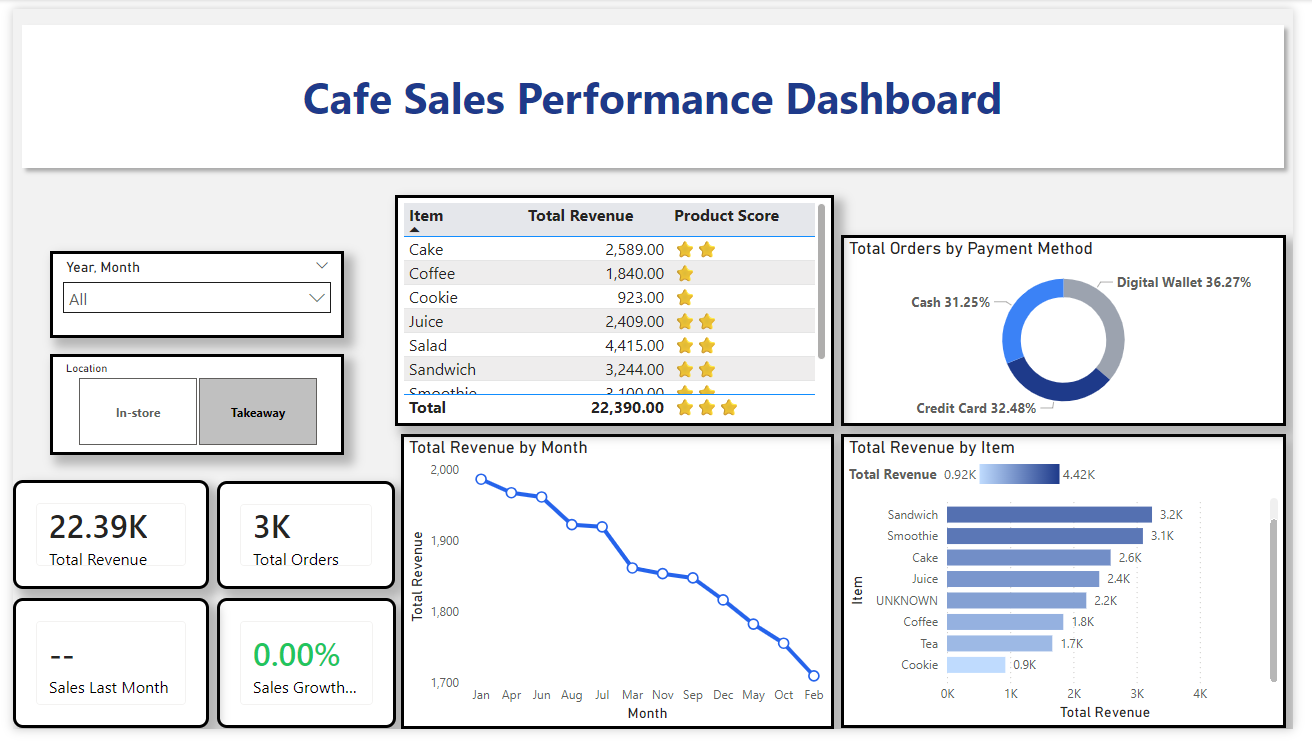

The page's visual inventory and layout, read from the dashboard file:
{"tool":"powerbi","page":{"name":"Page 1","canvas":[1280,720],"ordinal":0},"visuals":[{"type":"slicer","fields":{"Values":["DateTable.Year","DateTable.Month"]},"box":[37.3,241.7,293.9,87.3],"z":0},{"type":"slicer","fields":{"Values":["dirty_cafe_sales.Location"]},"box":[37.3,345,293.9,101.2],"z":1000},{"type":"cardVisual","fields":{"Data":["_Measures.Total Revenue"]},"box":[0,470.7,195.9,109.7],"z":3000},{"type":"cardVisual","fields":{"Data":["_Measures.Total Orders"]},"box":[204.5,471.7,177.8,108.6],"z":4000},{"type":"cardVisual","fields":{"Data":["_Measures.Sales Growth %"]},"box":[204.5,588.9,178.9,129.9],"z":5000},{"type":"cardVisual","fields":{"Data":["_Measures.Sales Last Month"]},"box":[0,588.9,195.9,129.9],"z":6000},{"type":"lineChart","fields":{"Category":["DateTable.Month"],"Y":["_Measures.Total Revenue"]},"box":[387.6,424.9,433.4,295],"z":7000},{"type":"clusteredBarChart","fields":{"Y":["_Measures.Total Revenue"],"Category":["Dim_Product.Item"]},"box":[828.5,424.9,444.1,293.9],"z":8000},{"type":"donutChart","fields":{"Category":["dirty_cafe_sales.Payment Method"],"Y":["_Measures.Total Orders"]},"box":[828.5,225.8,444.1,191.7],"z":9000},{"type":"tableEx","fields":{"Values":["Dim_Product.Item","_Measures.Total Revenue","_Measures.Product Score"]},"box":[382.3,186.4,438.7,231.1],"z":10000},{"type":"shape","box":[0,7.5,1280,160.8],"z":11000},{"type":"textbox","box":[265.2,54.3,748.6,67.1],"z":12000}]}

Visuals, with their boxes in screenshot pixels (x1, y1, x2, y2), scaled from the page's 1280x720 canvas onto the 1312x747 screenshot:
slicer - DateTable.Year x DateTable.Month: [38, 251, 339, 341]
slicer - dirty_cafe_sales.Location: [38, 358, 339, 463]
cardVisual - _Measures.Total Revenue: [0, 488, 201, 602]
cardVisual - _Measures.Total Orders: [210, 489, 392, 602]
cardVisual - _Measures.Sales Growth %: [210, 611, 393, 746]
cardVisual - _Measures.Sales Last Month: [0, 611, 201, 746]
lineChart - DateTable.Month x _Measures.Total Revenue: [397, 441, 842, 746]
clusteredBarChart - _Measures.Total Revenue x Dim_Product.Item: [849, 441, 1304, 746]
donutChart - dirty_cafe_sales.Payment Method x _Measures.Total Orders: [849, 234, 1304, 433]
tableEx - Dim_Product.Item x _Measures.Total Revenue: [392, 193, 842, 433]
shape: [0, 8, 1311, 175]
textbox: [272, 56, 1039, 126]
